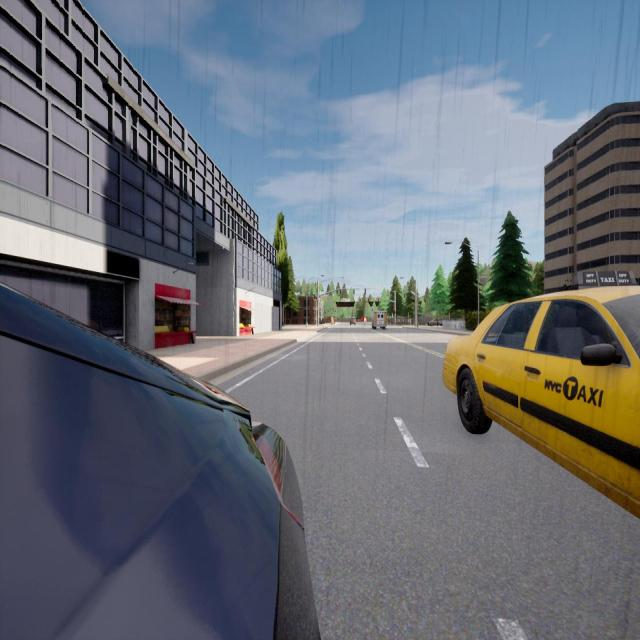Vehicle: (0, 280, 322, 640), (443, 286, 639, 517), (372, 310, 388, 330), (427, 318, 443, 327), (350, 317, 356, 326), (360, 317, 367, 323)
traffic_light: (394, 310, 396, 314), (340, 289, 341, 294), (365, 289, 366, 294), (360, 298, 360, 302), (354, 289, 354, 294)
